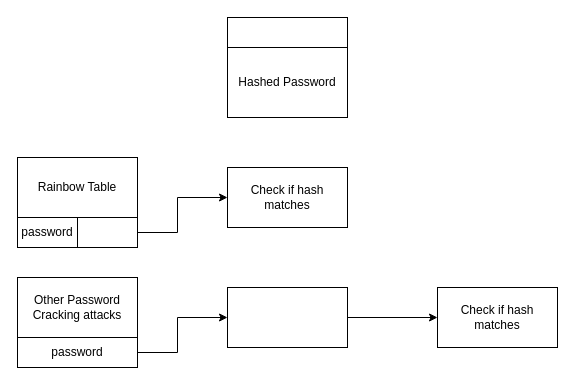
Image size: 575x385. Some labels were removed from this diagram. Each missing label, with the box of its shape:
Database: (226, 16, 348, 48)
Hash: (76, 216, 138, 248)
Hashing Algorithm: (226, 286, 348, 348)
